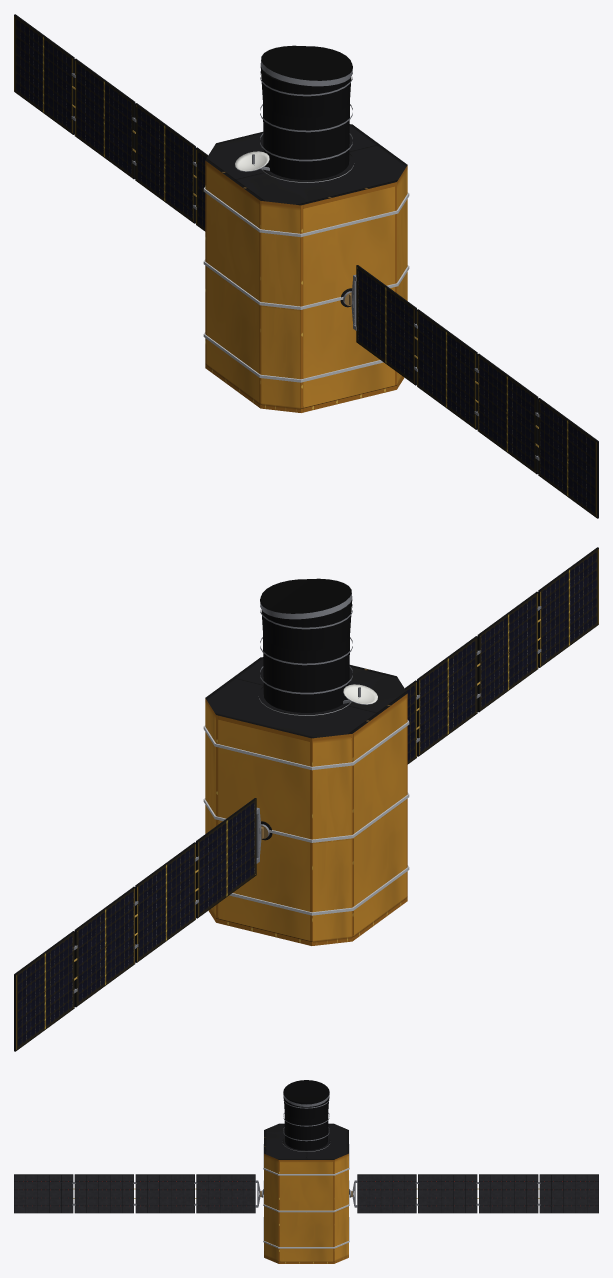
The model's file is geoeye-worldview.glb.
3 renders of one model, top to bottom at view 1: azimuth 30°, elevation 25°; view 2: azimuth 150°, elevation 25°; view 3: azimuth 270°, elevation 25°, orthographic. The views are drawn at different scales.
Parts seen in each view (by area): view 1: bus, wing-Y, wing+Y; view 2: bus, wing+Y, wing-Y; view 3: bus, wing+Y, wing-Y.
Boxes of the visible parts, x1,y1,x2,y2 form: bus: (203, 45, 409, 412); wing-Y: (349, 265, 598, 518); wing+Y: (14, 14, 207, 231); bus: (203, 578, 409, 945); wing+Y: (14, 798, 263, 1051); wing-Y: (405, 547, 598, 764); bus: (263, 1080, 349, 1263); wing+Y: (351, 1174, 598, 1213); wing-Y: (14, 1174, 261, 1213).
Size of the model in its own units: 2.33 by 4.85 by 15.78.
Materials: 15 (5 with a texture image).
